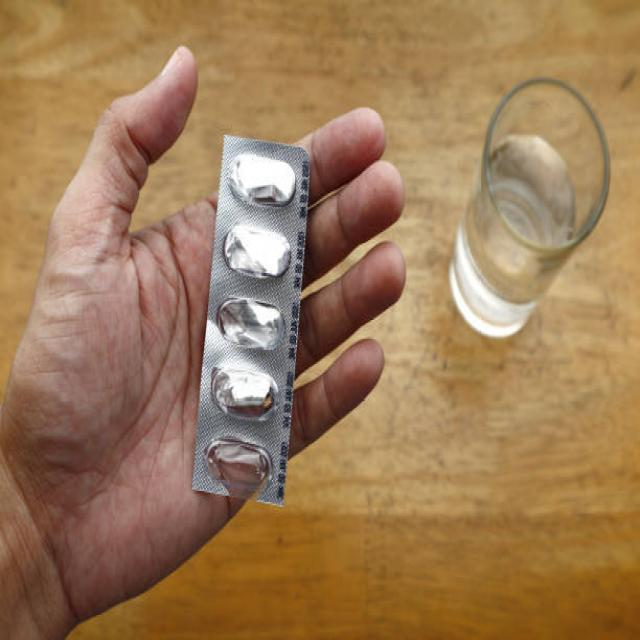Empty: (223, 214, 294, 288), (207, 354, 280, 425), (217, 289, 288, 355), (230, 145, 300, 207), (205, 434, 275, 493)
